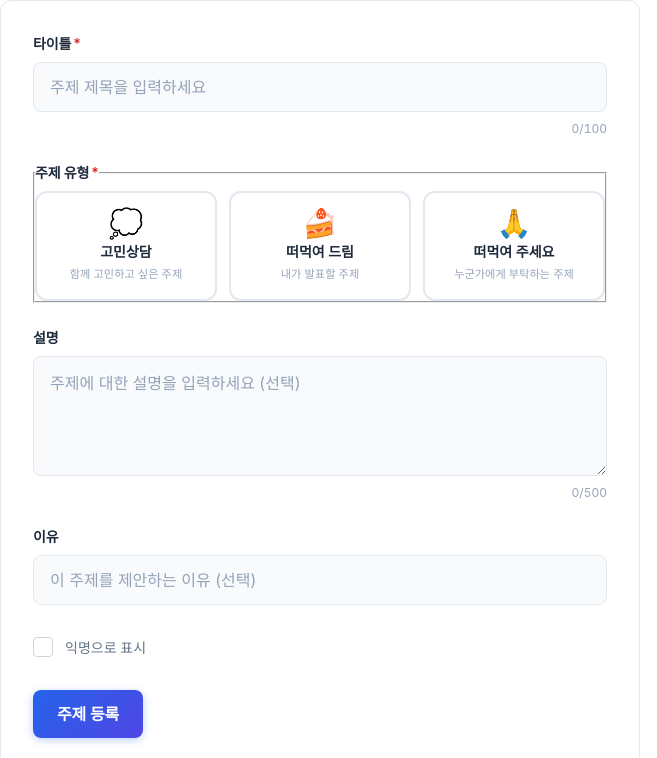
Test: TopicForm › 유형 미선택 시 제출하면 유효성 검증 에러를 표시한다
Fill title but don't select type
Type "테스트 주제" into the field labelled "타이틀*" at (320, 87), box [33,62,607,112]
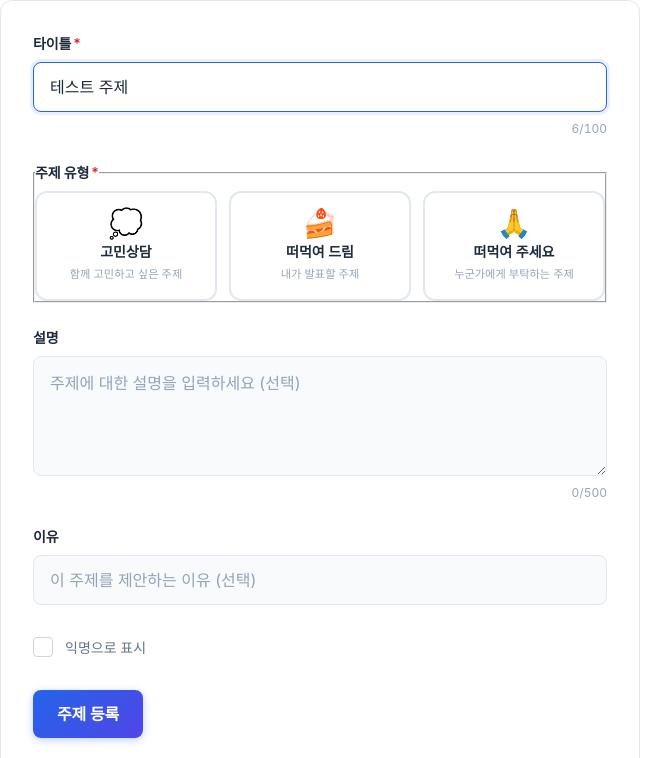
Click the button "주제 등록" at (88, 714), box [33,690,143,738]
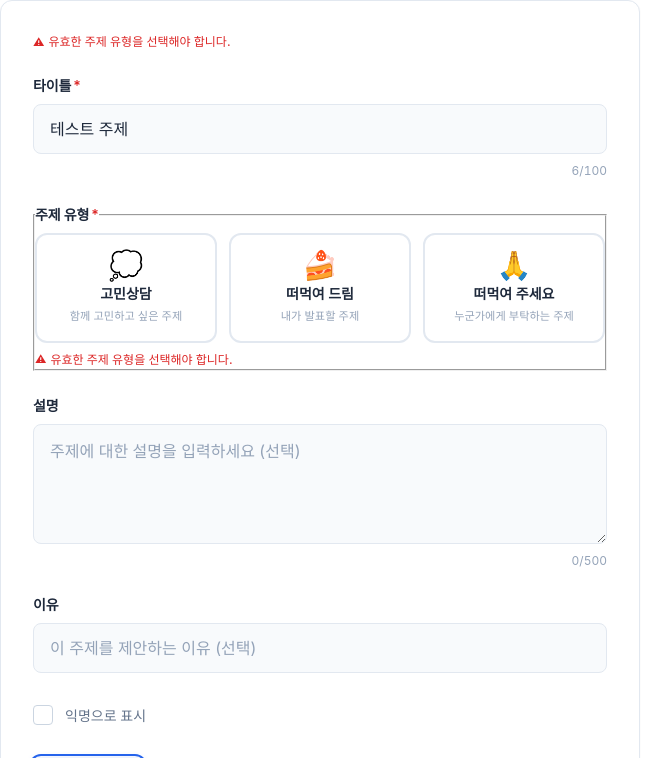
Expected: the 1st text "유효한 주제 유형을 선택해야 합니다." is shown, [48,34,230,49]
